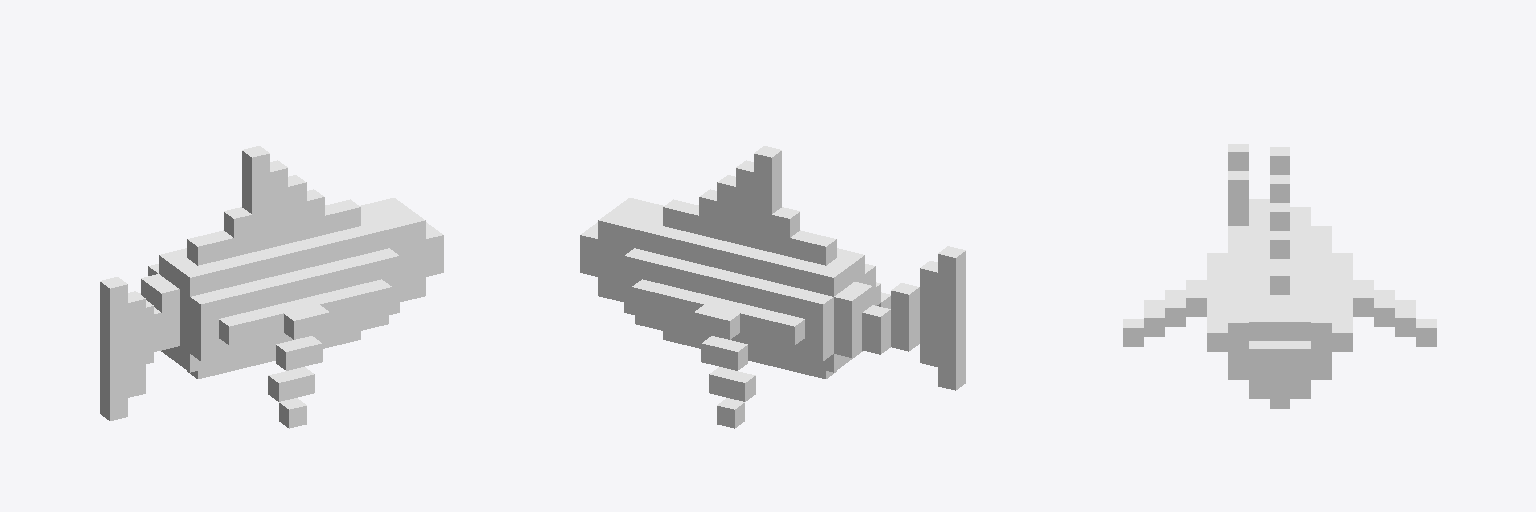
File: tibu6vox.obj
3 renders of one model, left to right at view 1: azimuth 30°, elevation 25°; view 2: azimuth 150°, elevation 25°; view 3: azimuth 270°, elevation 25°, orthographic.
Visible parts, largest first — view 1: object 1; view 2: object 1; view 3: object 1.
Part boxes in pixels (bbox=[...]): object 1: bbox=[100, 146, 443, 428]; object 1: bbox=[580, 146, 965, 428]; object 1: bbox=[1123, 144, 1436, 408].
Size of the model in its own units: 1.9 by 1.1 by 1.5.